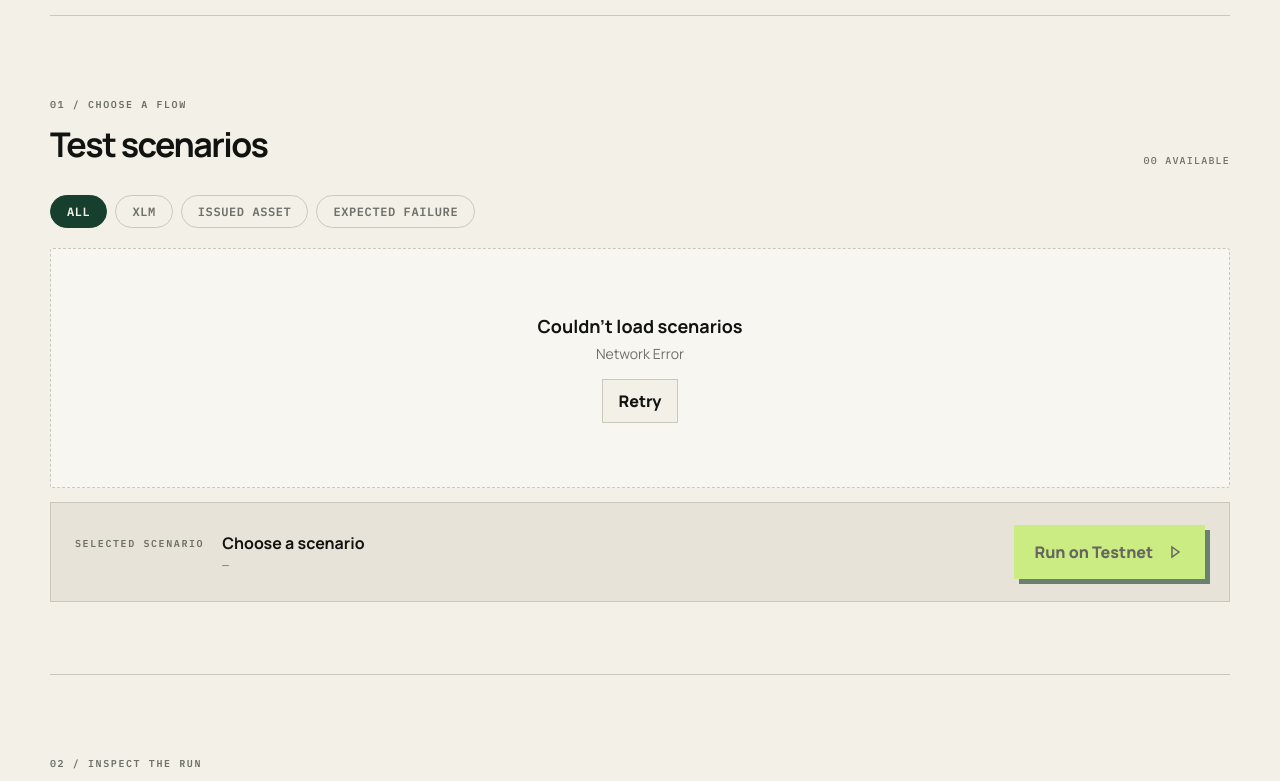
Test: Dashboard component catalogue loading and retry › handles successful retry after failure
This screenshot has width=1280, height=781.
(page scrolled)
Expected: the text "Couldn't load scenarios" is shown, 538,314 -> 742,338
Click the button "Retry": (640, 400) 602,378 -> 678,422
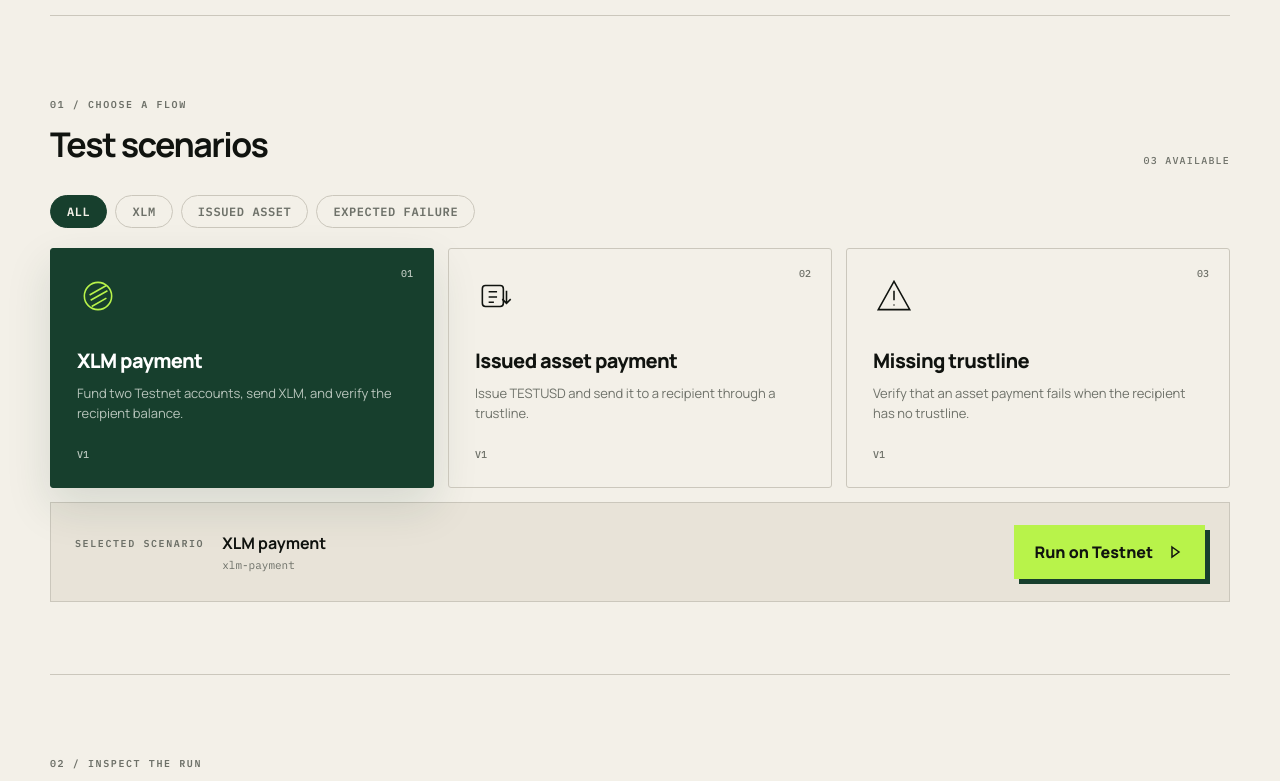
Expected: the text "Couldn't load scenarios" is gone
Expected: the 1st text "XLM payment" is shown, 77,347 -> 202,374
